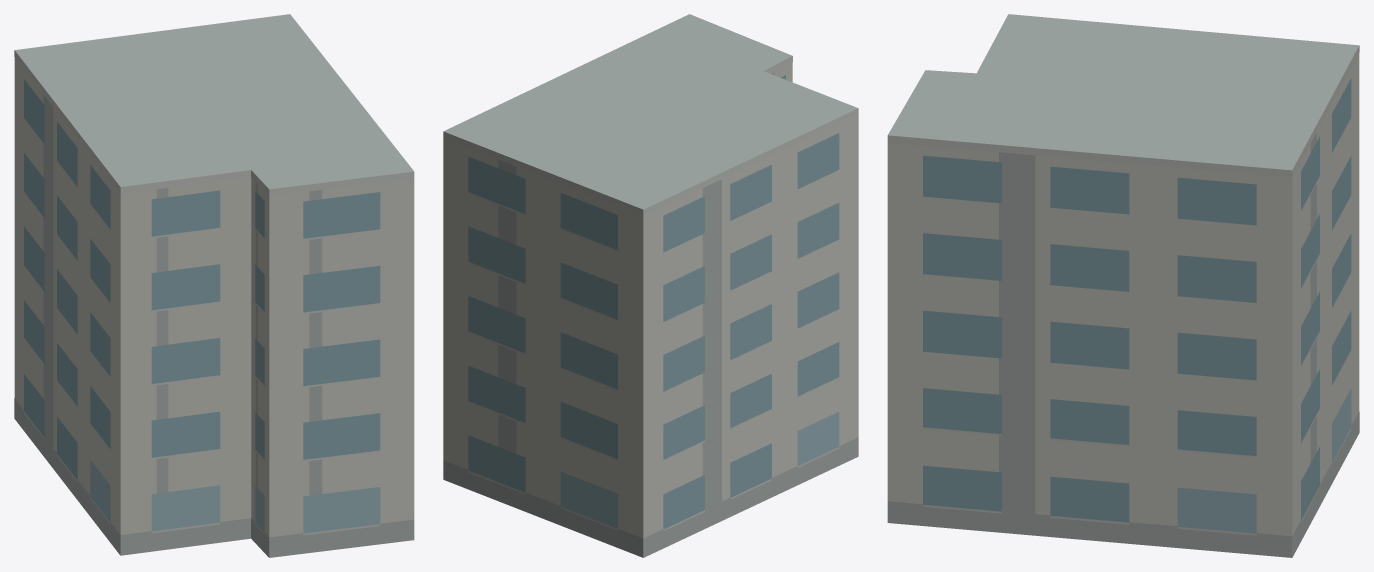
Rendered from survey-upis-32851081.glb.
3 renders of one model, left to right at view 1: azimuth 30°, elevation 25°; view 2: azimuth 150°, elevation 25°; view 3: azimuth 270°, elevation 25°, orthographic. The views are drawn at different scales.
Parts seen in each view (by area): view 1: survey-upis-32851081.tmp; view 2: survey-upis-32851081.tmp; view 3: survey-upis-32851081.tmp.
Boxes of the visible parts, x1,y1,x2,y2 form: survey-upis-32851081.tmp: [14, 14, 414, 557]; survey-upis-32851081.tmp: [443, 14, 858, 557]; survey-upis-32851081.tmp: [887, 14, 1359, 557].
Bounding box in the file's own units: 11.25 × 13 × 14.35.
